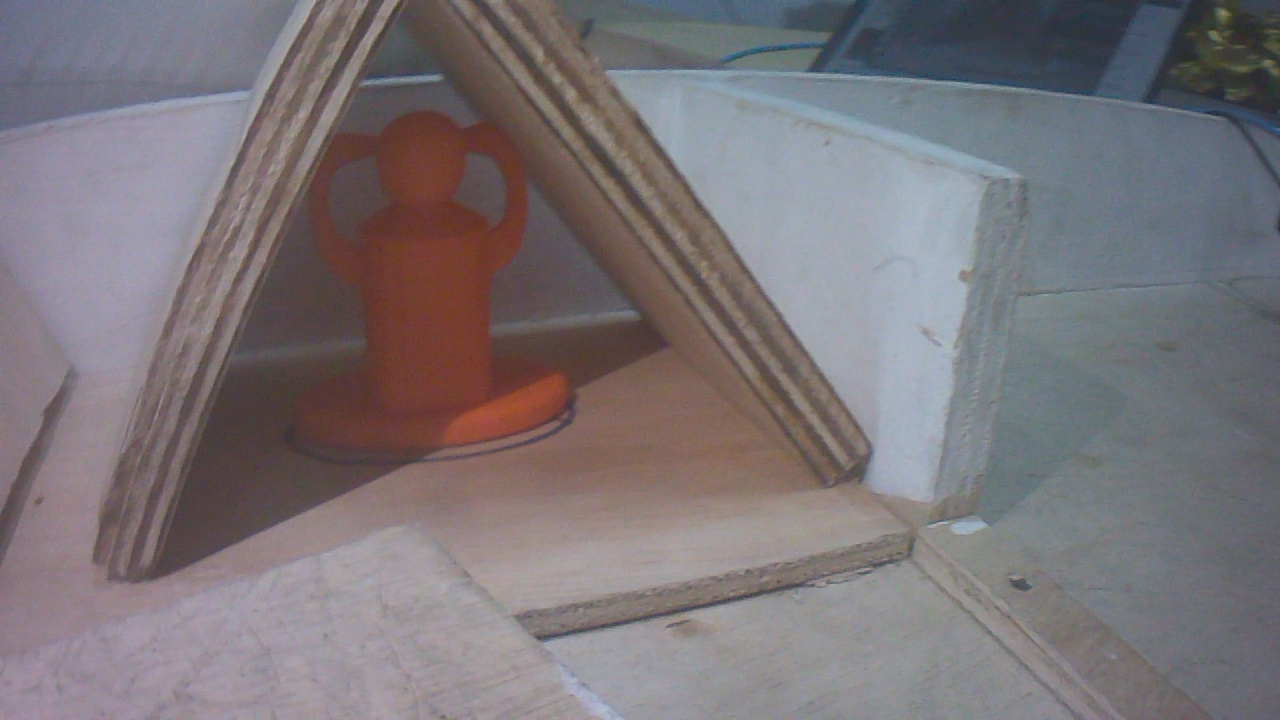real: (309, 110, 559, 465)
